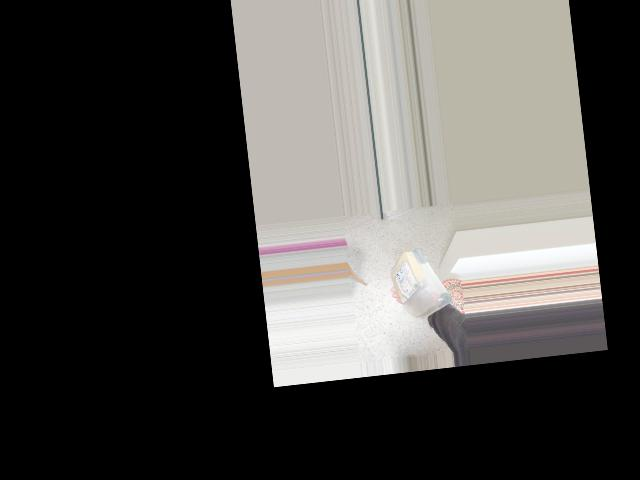cheese: (386, 242, 453, 332)
